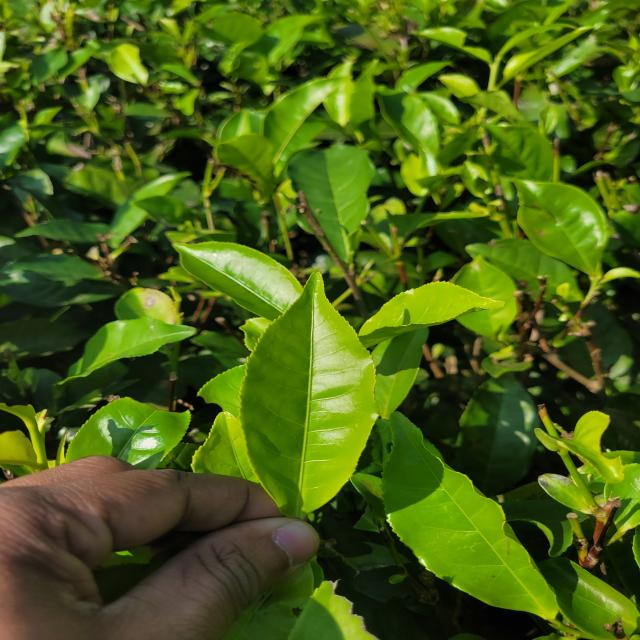Catagory A(1-2 days): (237, 260, 388, 522)
